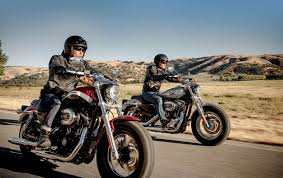helmet: (59, 35, 90, 60), (154, 53, 170, 69)
